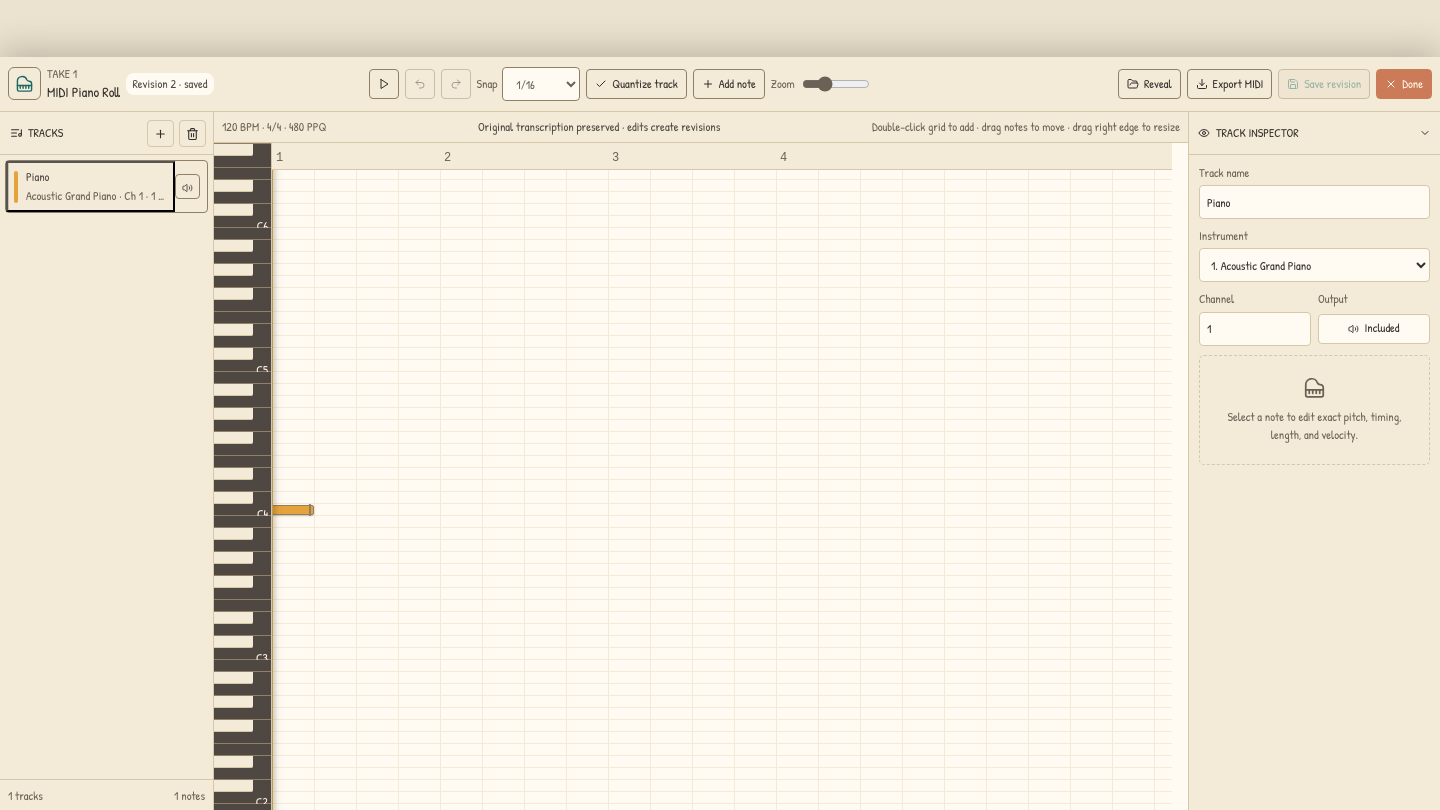
MusicStudio › keeps source identity while producer edits become an explicit revision save
(page scrolled)
Click the button named "Add MIDI track".
click(160, 133)  # box [147,120,174,146]
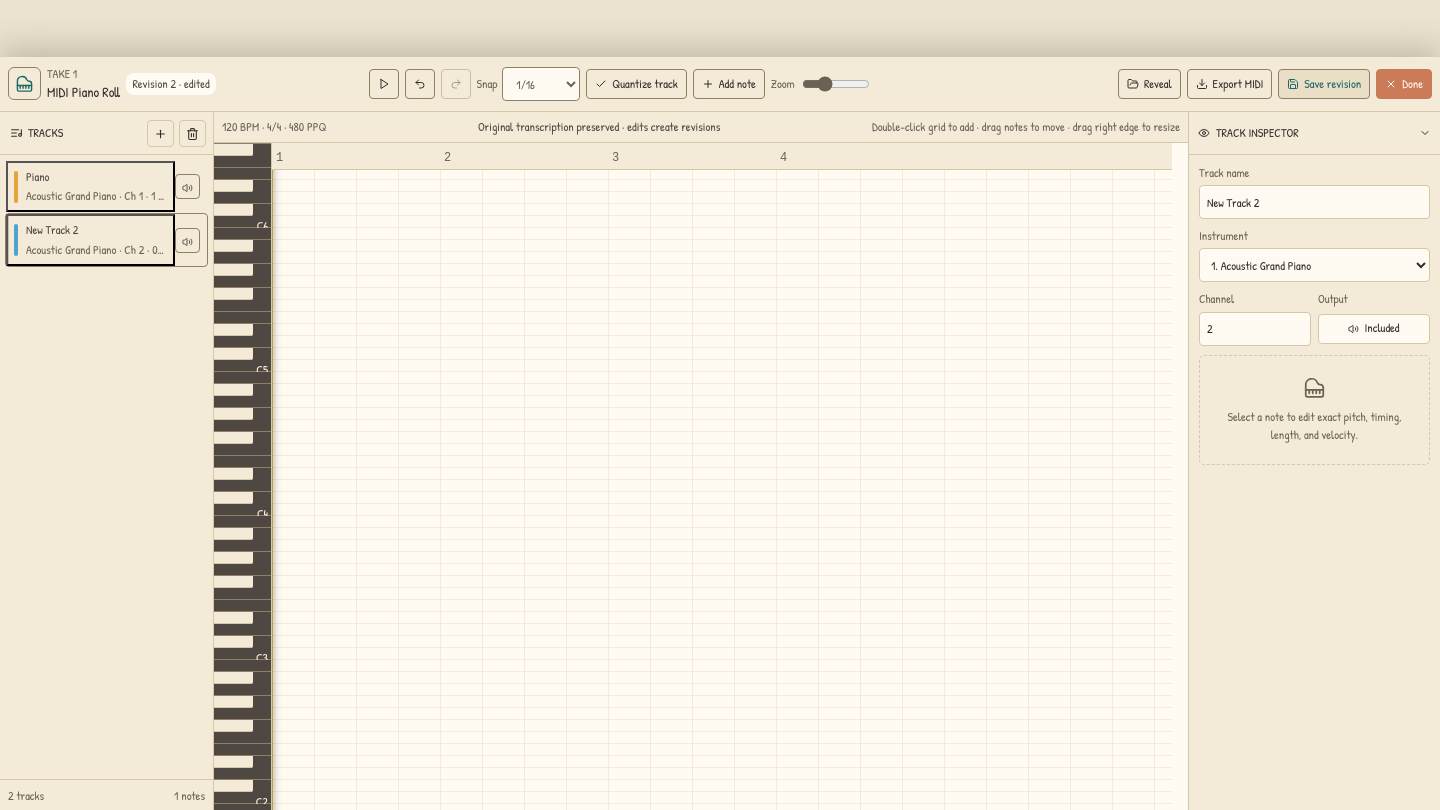
Click the button named "Undo MIDI edit".
click(420, 84)  # box [404,69,434,99]
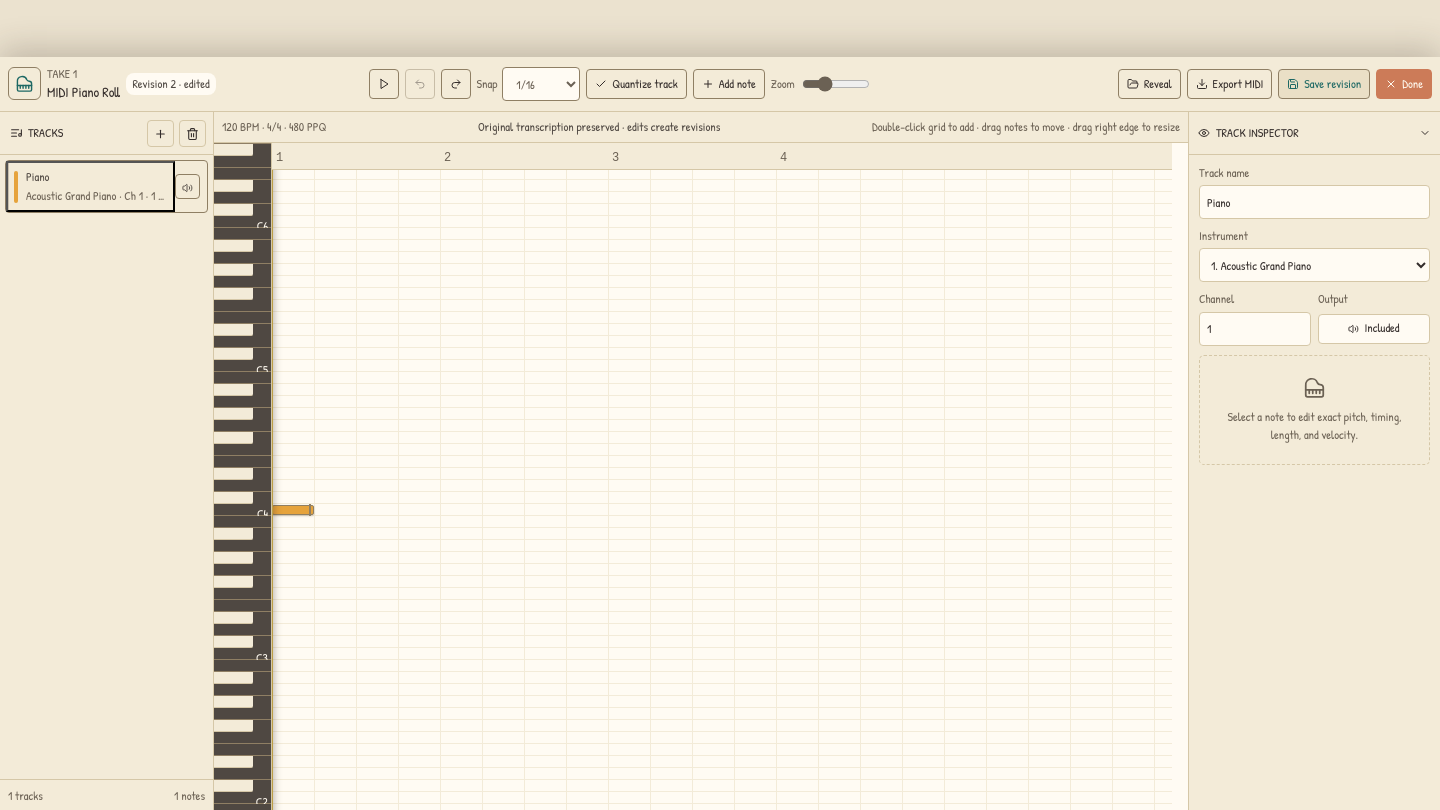
Click the button named "Redo MIDI edit".
click(456, 84)  # box [440,69,470,99]
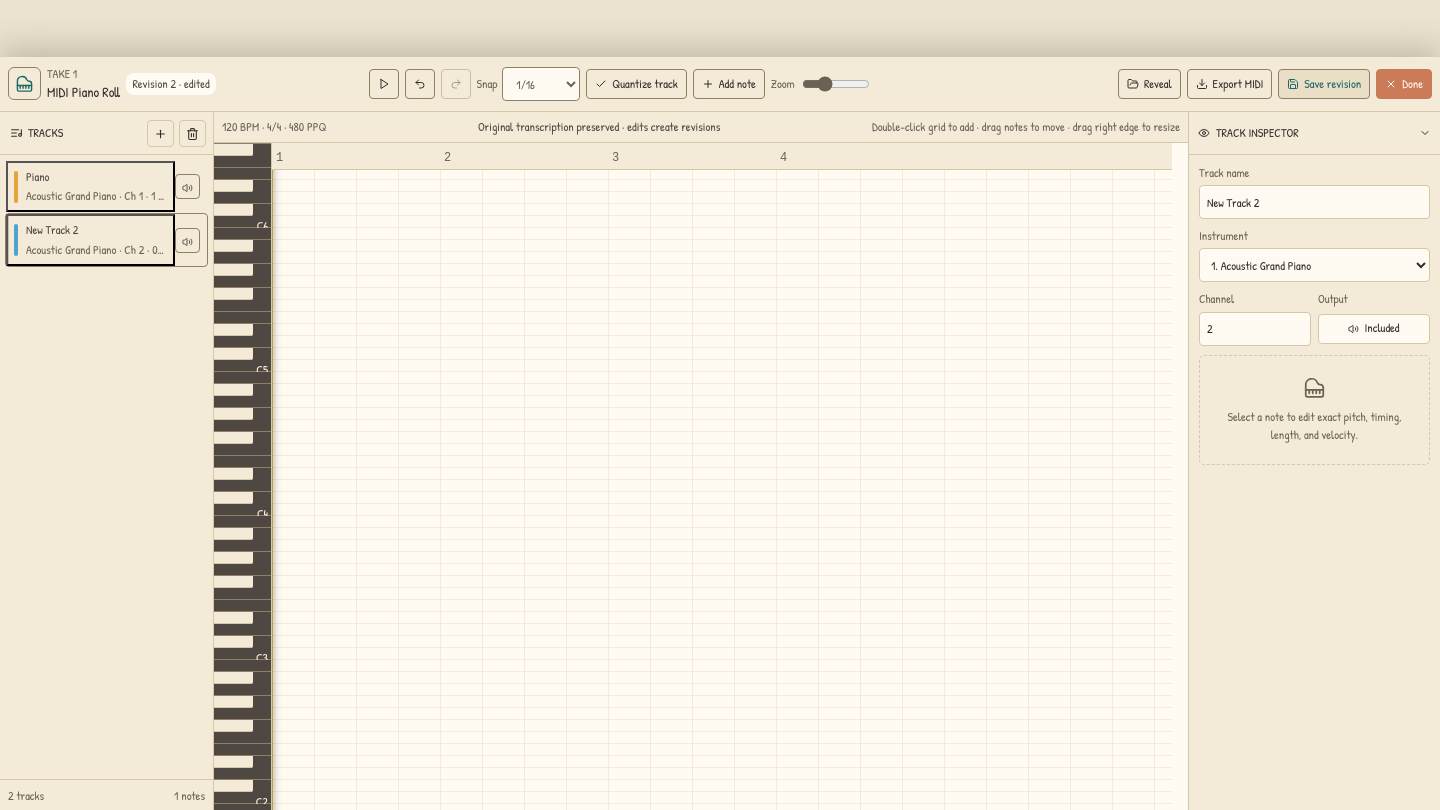
Click the button "Save revision".
click(1324, 84)  # box [1278,69,1370,99]
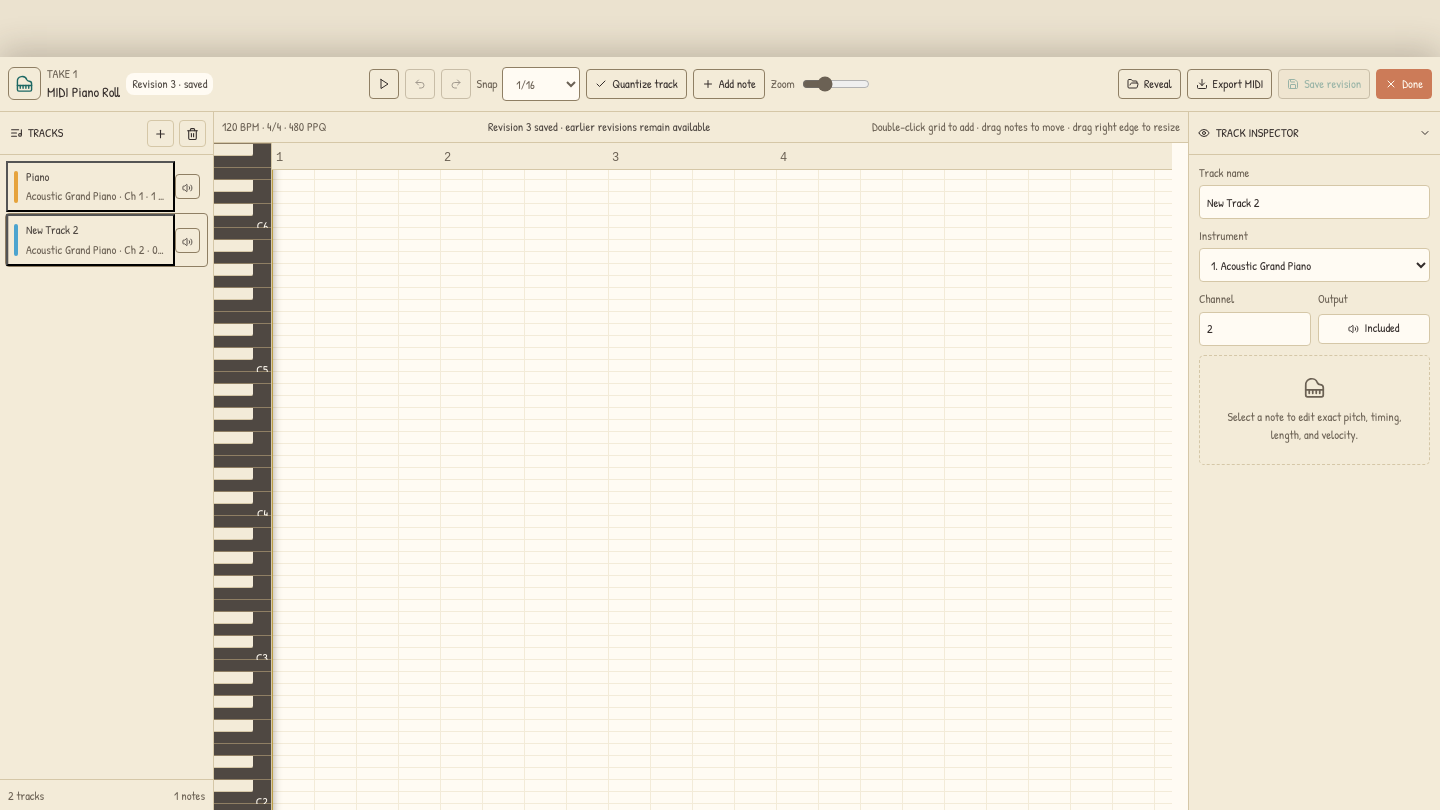
Expected: the text "Revision 3 saved · earlier revisions remain available" is shown, [488,118,710,135]
